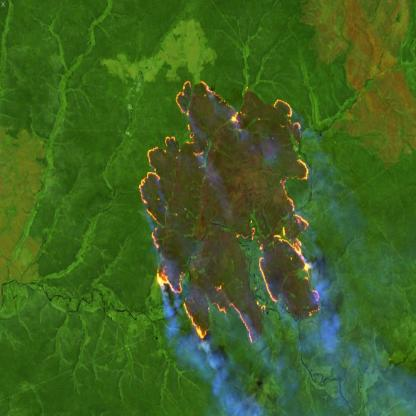fire: (132, 73, 325, 351)
